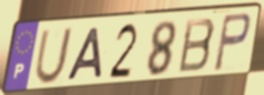2: (108, 22, 140, 81)
8: (146, 19, 178, 78)
A: (63, 26, 104, 83)
B: (176, 17, 218, 76)
P: (211, 11, 253, 74)
U: (32, 26, 75, 87)
